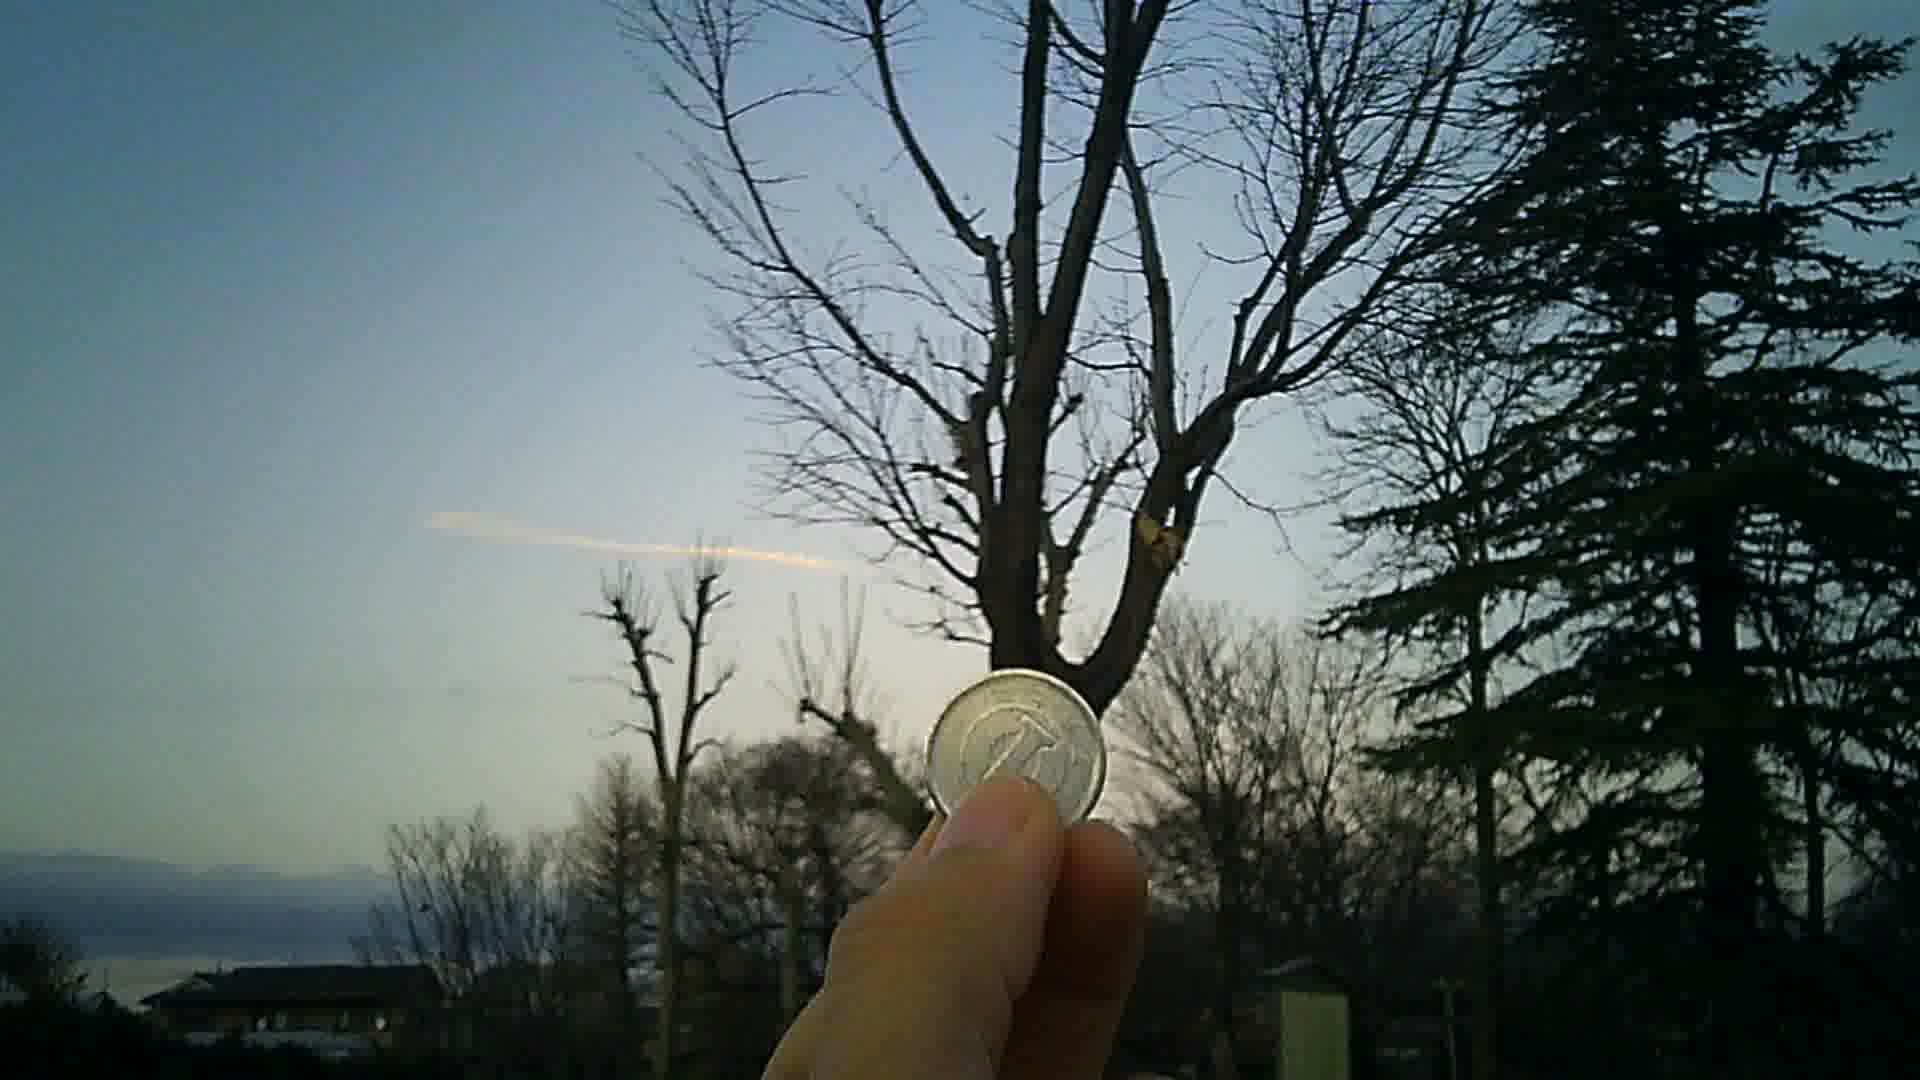500 Yen: (914, 657, 1118, 840)
